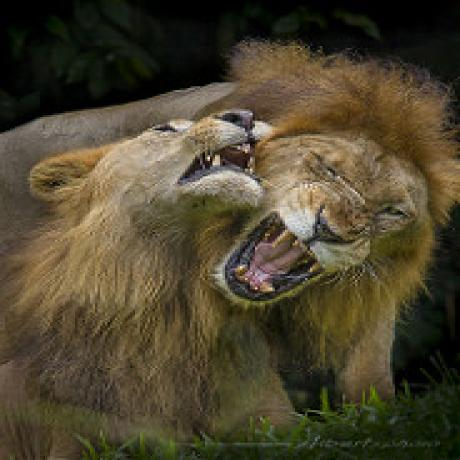Lion: (0, 106, 265, 459), (222, 23, 460, 316)
